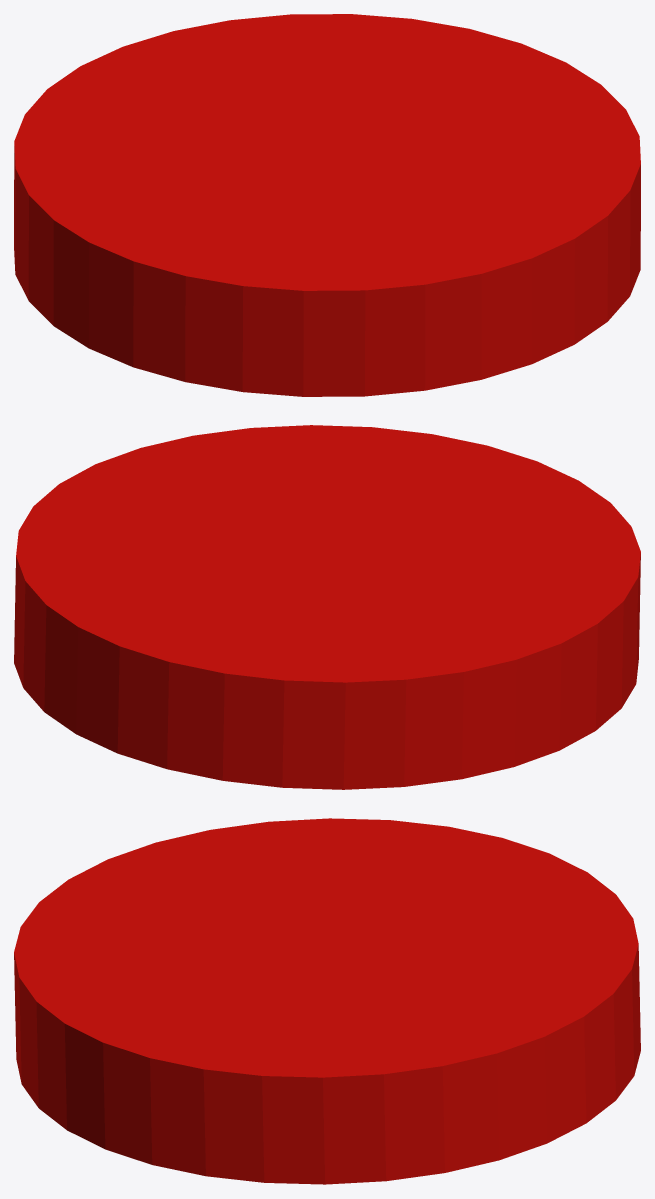
Rendered from red_cell.fbx.
3 views of the same model, one above another, from view 1: azimuth 30°, elevation 25°; view 2: azimuth 150°, elevation 25°; view 3: azimuth 270°, elevation 25° (orthographic).
Visible parts, largest first — view 1: Cylinder; view 2: Cylinder; view 3: Cylinder.
Part boxes in pixels (box(x1,y1,x2,y2)): Cylinder: box(14, 14, 640, 396); Cylinder: box(14, 425, 640, 789); Cylinder: box(14, 818, 640, 1184).
Bounding box in the file's own units: 0.9501 × 0.1989 × 0.9517.
